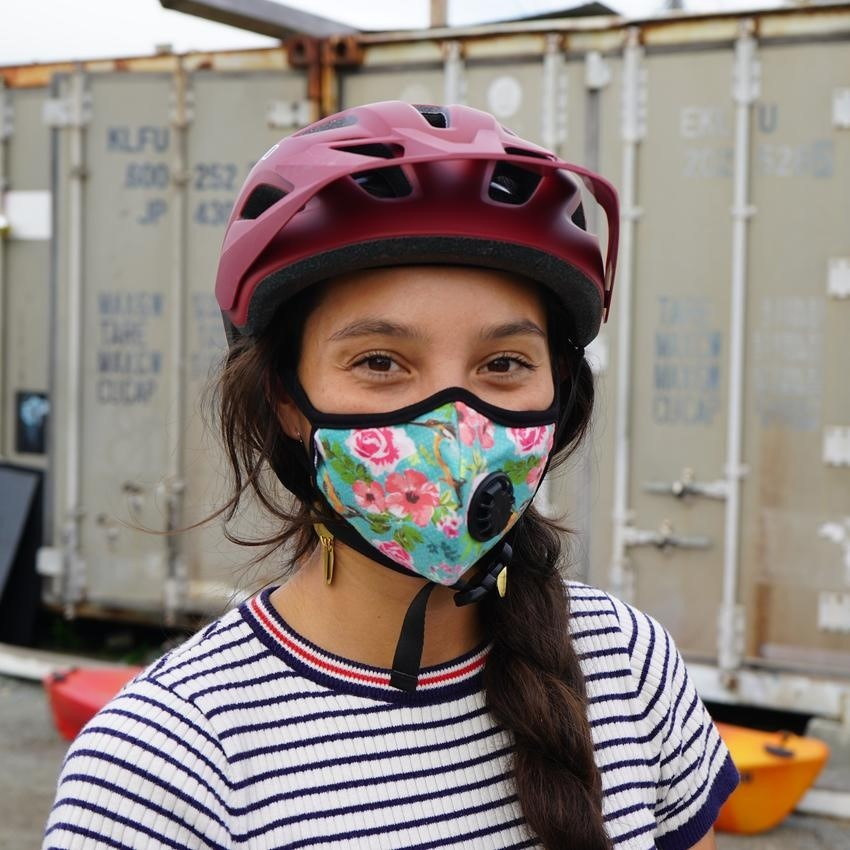face_with_mask: (214, 96, 626, 585)
